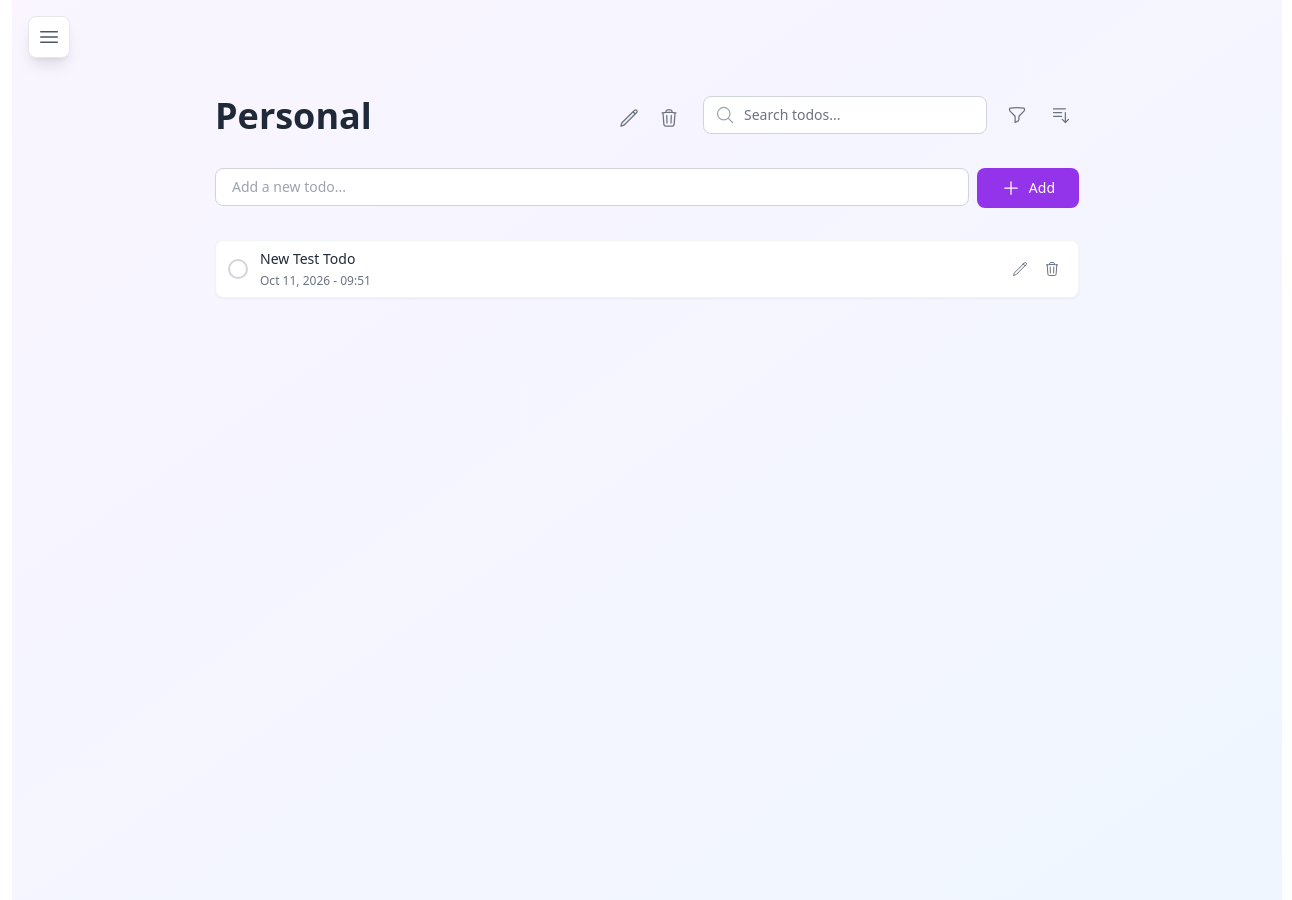
Test: App › can toggle sidebar
Earlier steps of the test are not shown.
Click the button titled "Toggle sidebar" at x=49, y=37, box top-left (28, 16), bottom-right (70, 58)
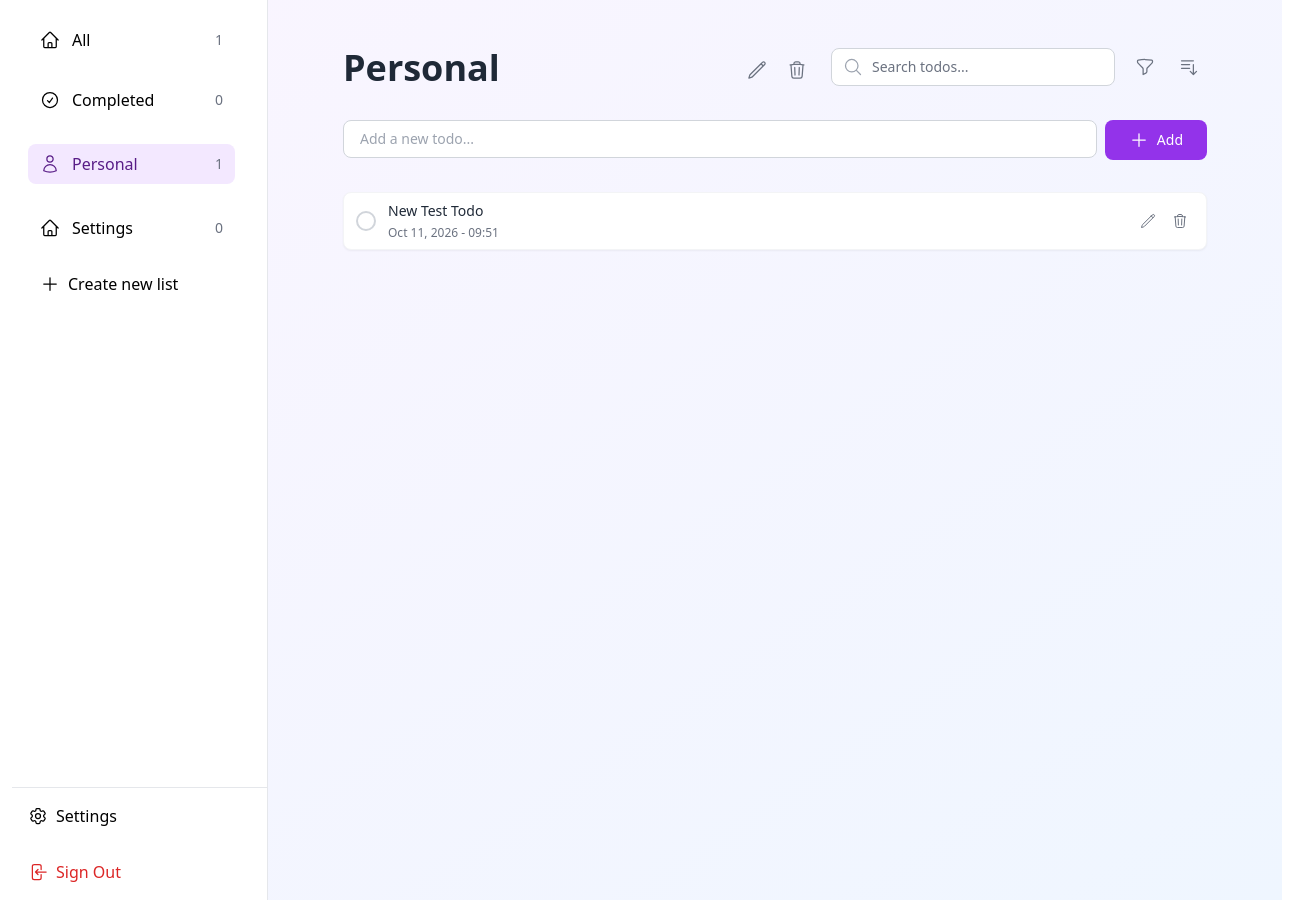
Expected: the navigation bar does not have class "-translate-x-full", top-left (12, 0), bottom-right (268, 899)
